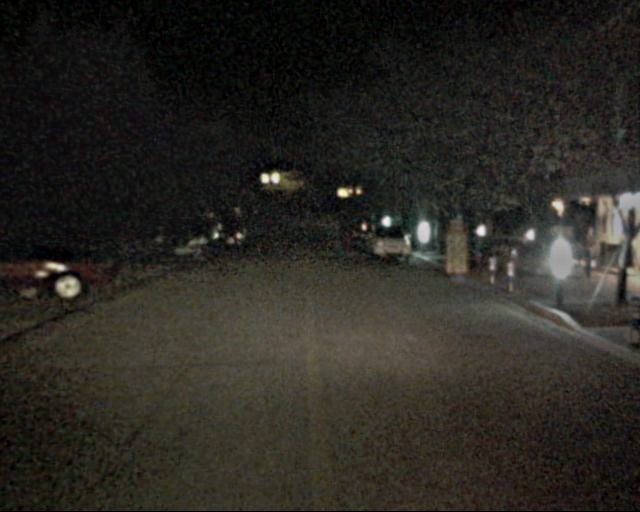person: (541, 226, 567, 289), (575, 227, 599, 285)
